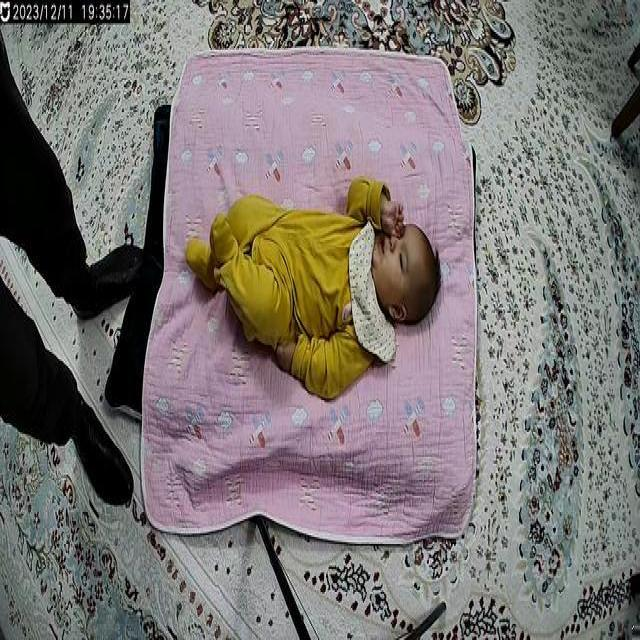baby: (180, 175, 441, 411)
